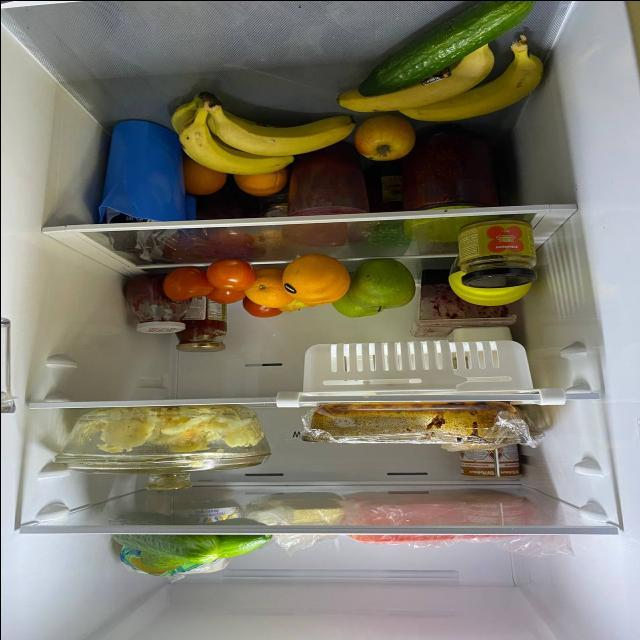Apple: (350, 257, 414, 311), (351, 111, 417, 160), (332, 291, 384, 319)
Banana: (336, 37, 552, 123), (169, 88, 356, 172)
Cucumber: (357, 0, 536, 96)
Orange: (282, 256, 346, 304), (245, 266, 298, 308), (178, 160, 228, 196), (232, 164, 286, 196)
Tomato: (204, 258, 254, 289), (163, 270, 209, 301), (206, 283, 246, 303), (245, 300, 279, 317)
